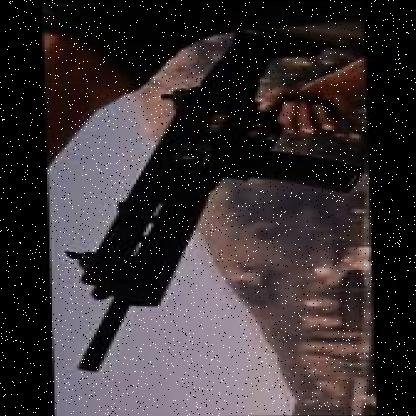rifle: (55, 32, 366, 373)
